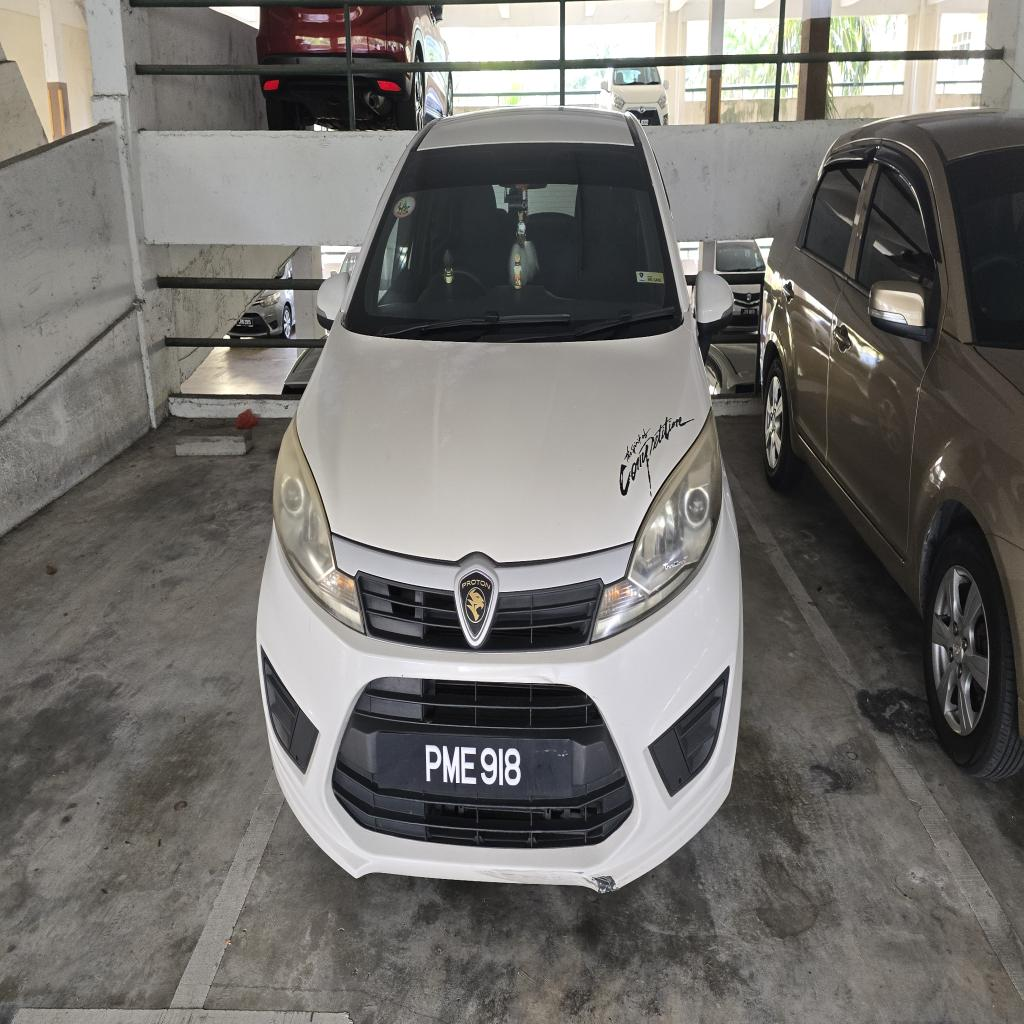car: (258, 111, 742, 890)
car plate: (377, 733, 572, 798)
